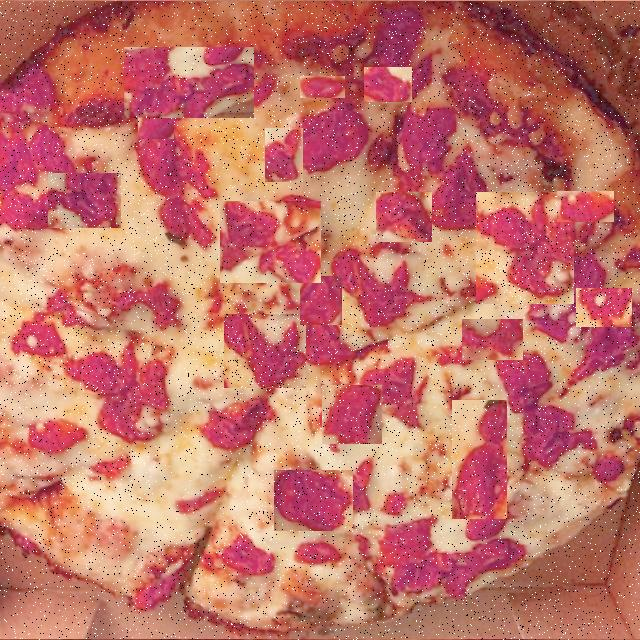Pizza: (0, 1, 640, 640)
Tomato: (152, 413, 242, 535), (476, 192, 574, 304), (124, 48, 254, 120), (220, 201, 321, 283), (37, 303, 120, 391), (569, 412, 640, 514), (452, 400, 507, 519), (6, 249, 80, 334), (224, 314, 306, 388), (274, 470, 353, 531), (48, 173, 121, 228), (322, 385, 382, 444), (68, 380, 129, 429), (376, 192, 432, 242), (96, 237, 145, 292), (462, 319, 523, 362), (576, 288, 632, 327), (300, 276, 342, 325), (265, 128, 303, 182), (558, 191, 616, 222), (364, 67, 412, 102), (138, 105, 174, 139), (300, 76, 345, 98)
